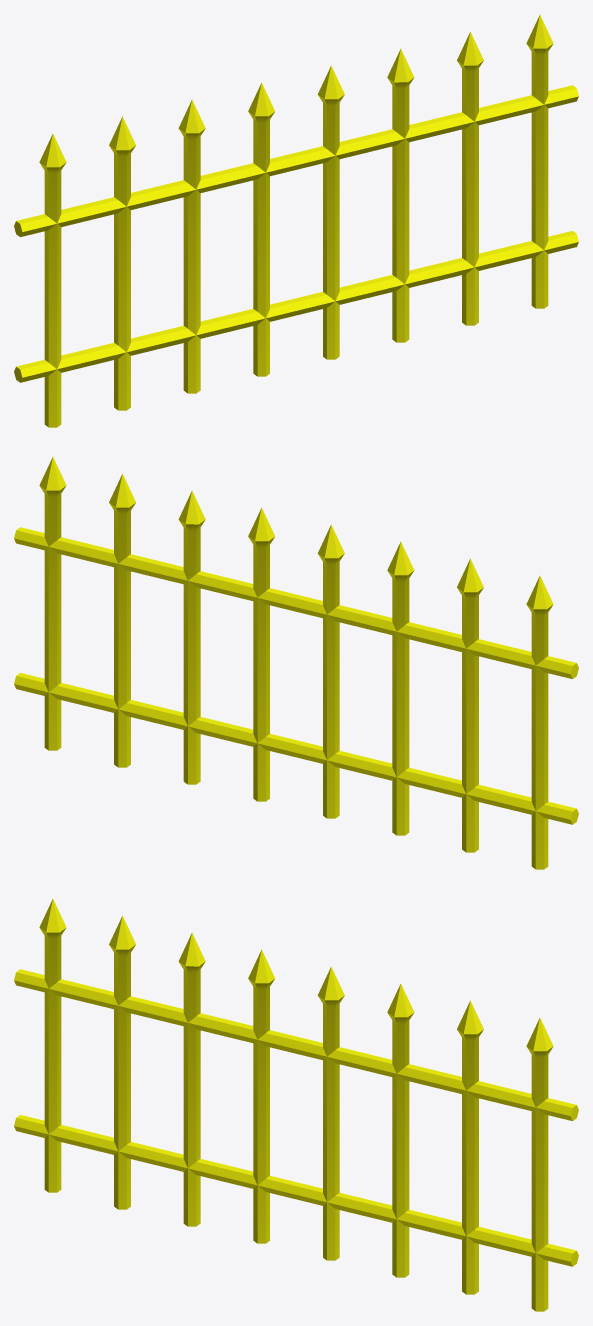
File: kaykit-fence-seperate.glb
3 renders of one model, top to bottom at view 1: azimuth 30°, elevation 25°; view 2: azimuth 150°, elevation 25°; view 3: azimuth 330°, elevation 25°, orthographic.
Visible parts, largest first — view 1: fence_seperate; view 2: fence_seperate; view 3: fence_seperate.
Boxes of the visible parts, left/top/right/bottom form: fence_seperate: left=14, top=15, right=578, bottom=427; fence_seperate: left=14, top=457, right=578, bottom=869; fence_seperate: left=14, top=899, right=578, bottom=1311.
Size of the model in its own units: 4 by 2 by 0.1694.
